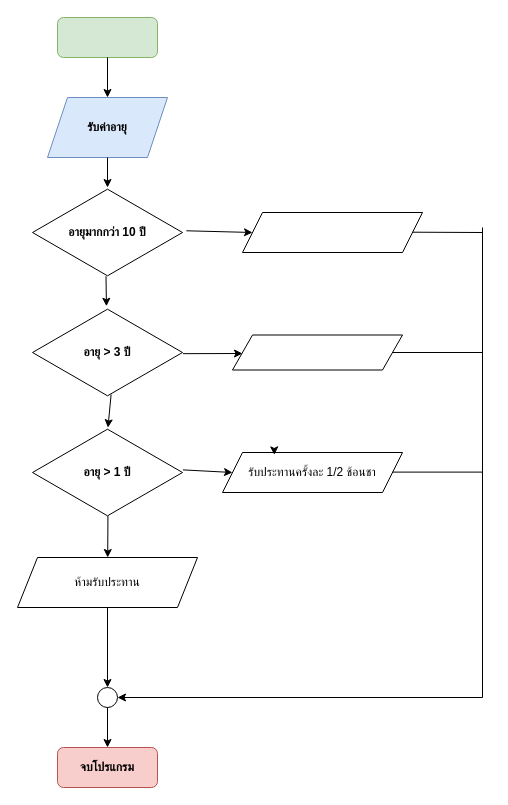
This 508x805 diagram has some shape labels left out. The centre of each missing label's shape, as x and y in pixels:
รับประทานครั้งละ 1 ช้อนชา: the point at 317,352
รับประทานครั้งละ 2 ช้อนชา: the point at 332,232
เริ่ม: the point at 107,37
